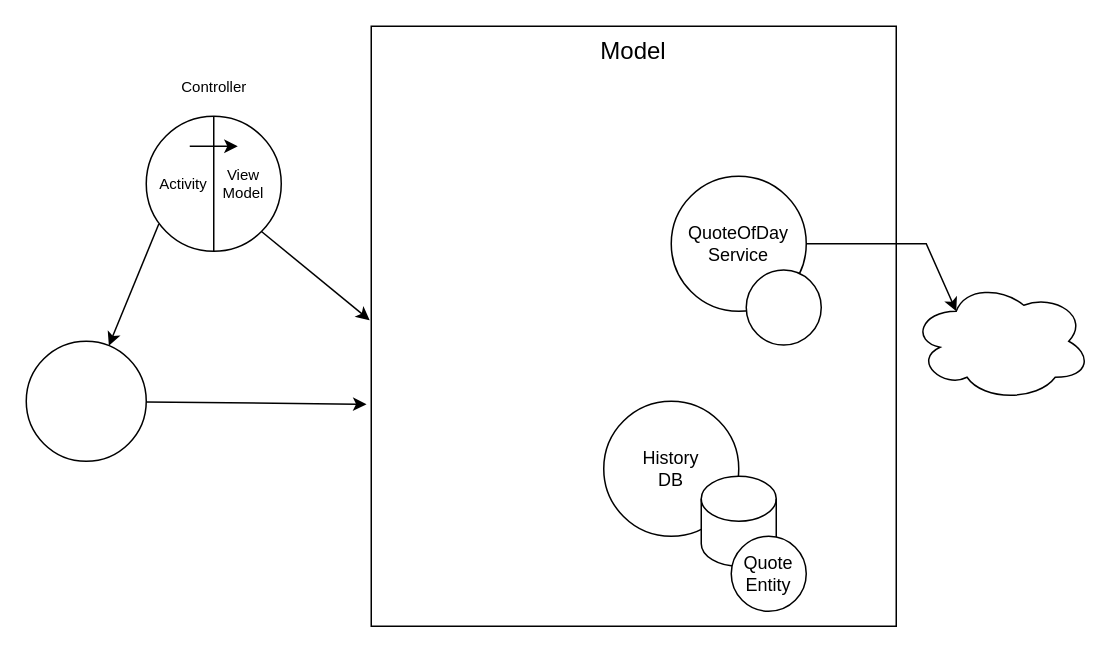
This 1118x653 diagram has some shape labels left out. The centre of each missing label's shape, as x and y in pixels:
"Quote DTO" belongs at [783,306].
"View" belongs at [85,400].
